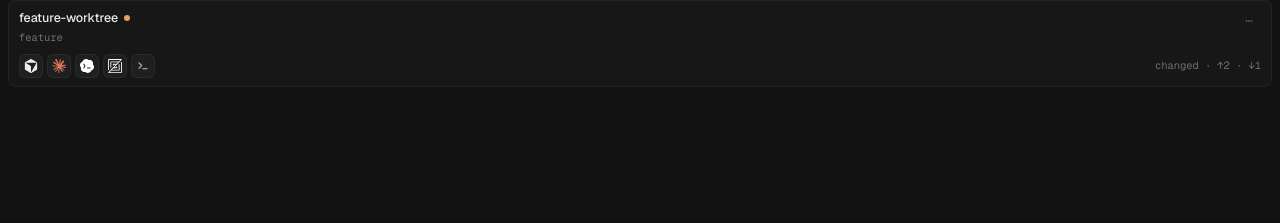
Test case: WorktreeRow › dirty and behind rows expose commit and sync actions in overflow
The image size is (1280, 223).
Click the button named "Worktree actions".
click(1249, 21)  # box [1237, 9, 1261, 33]
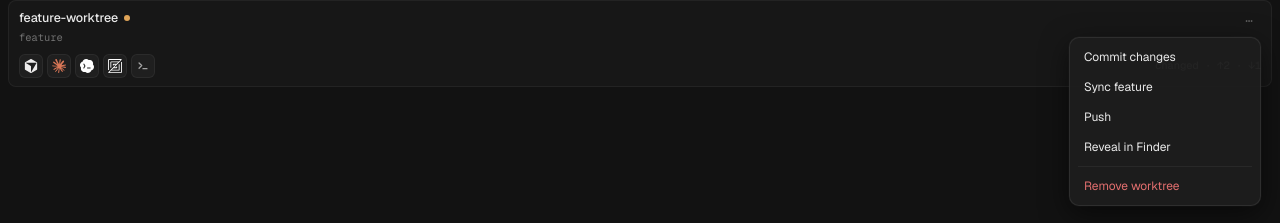
Expected: the text "Commit changes" is shown, [1074, 42, 1256, 72]
Expected: the text "Sync feature" is shown, [1074, 72, 1256, 102]
Expected: the text "Remove worktree" is shown, [1074, 171, 1256, 201]
